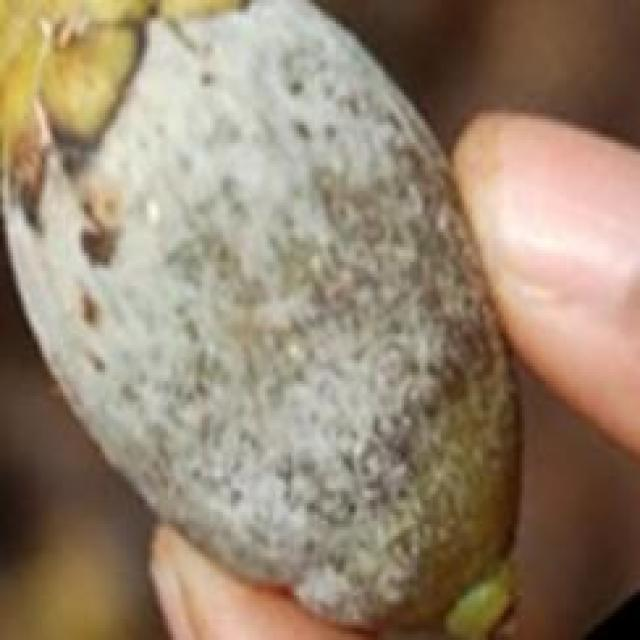damaged: (0, 0, 511, 616)
